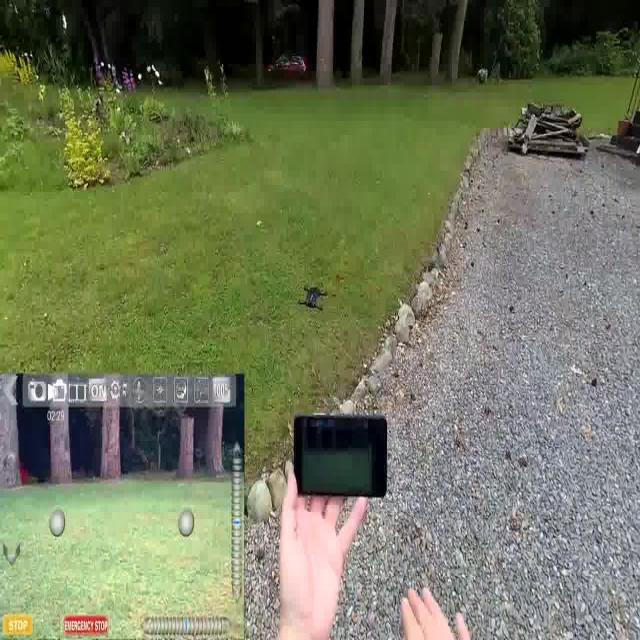drone: (298, 282, 329, 314)
